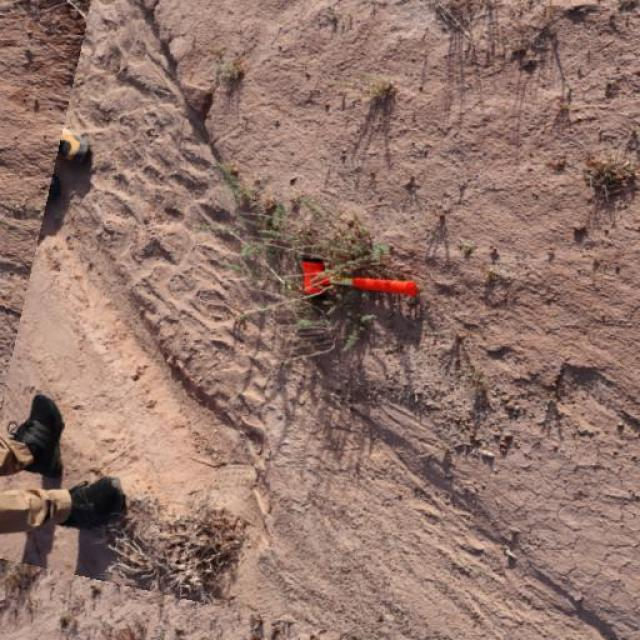mallet: (299, 256, 419, 299)
